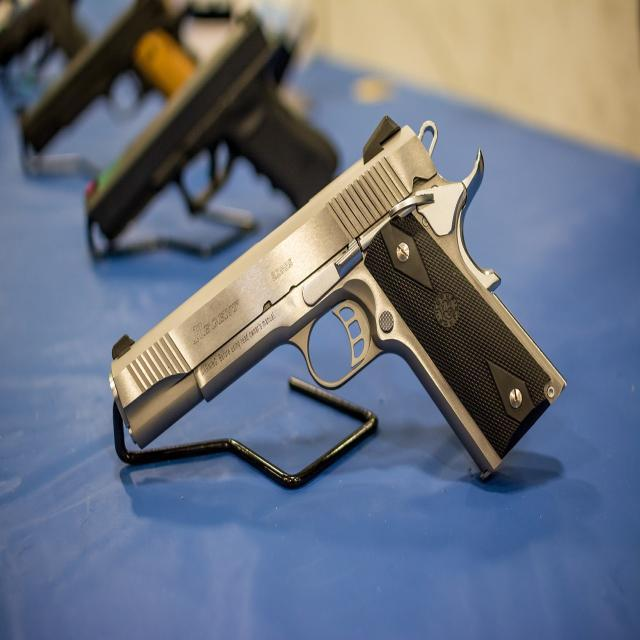Gun: (110, 118, 565, 476), (89, 14, 338, 242), (21, 0, 195, 151), (24, 0, 168, 151), (0, 0, 88, 64)
